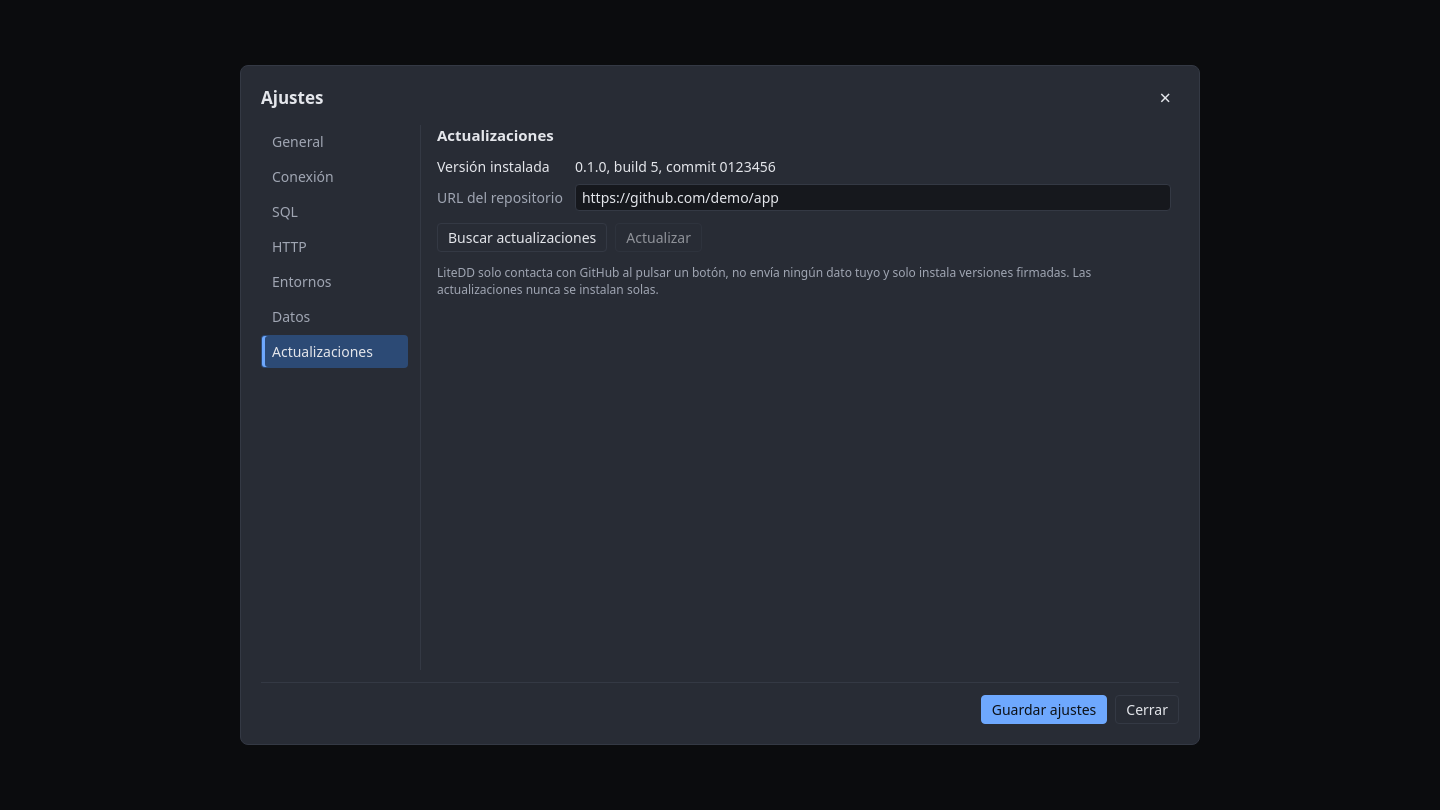
Test: R-13 búsqueda › R-13 sin nada nuevo dice que tienes la última versión
What coordinates should you click on to do the following:
click the button "Buscar actualizaciones"
I would click on:
 (522, 238)
Its box is x1=437 y1=223 x2=607 y2=252.
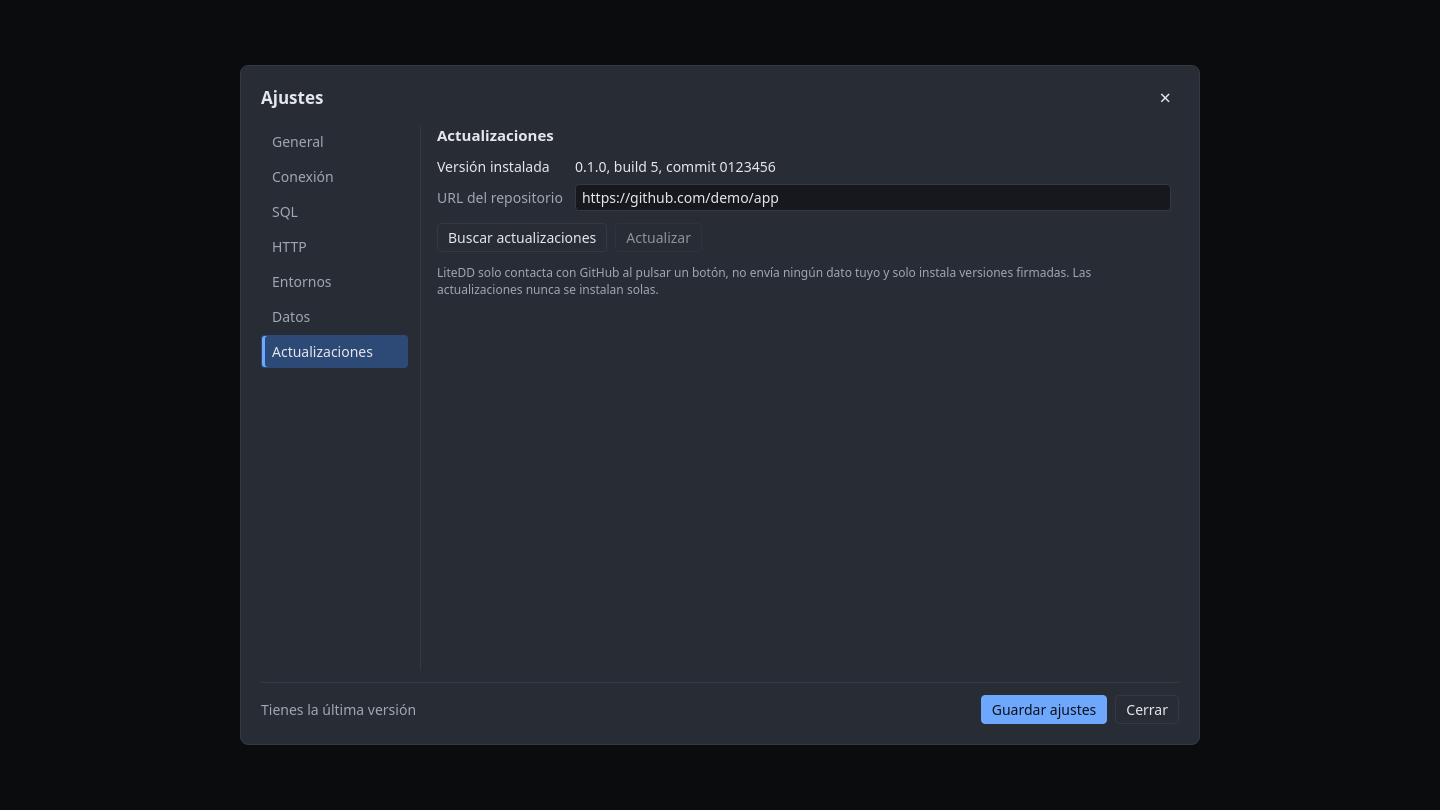
Expected: the button "Actualizar" is disabled, x1=615 y1=223 x2=702 y2=252
Now the text "Tienes la última versión" is shown, box x1=261 y1=700 x2=416 y2=719
